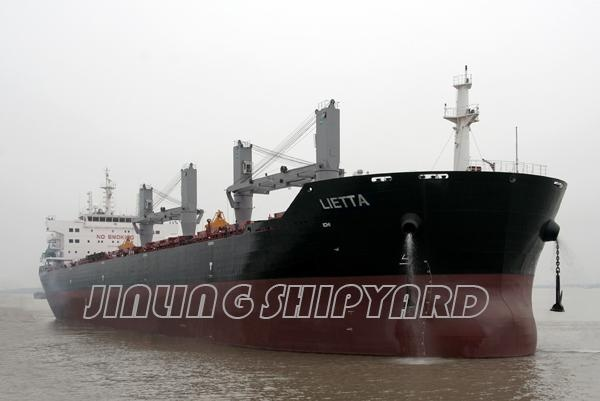Cargoship: (31, 63, 577, 361)
